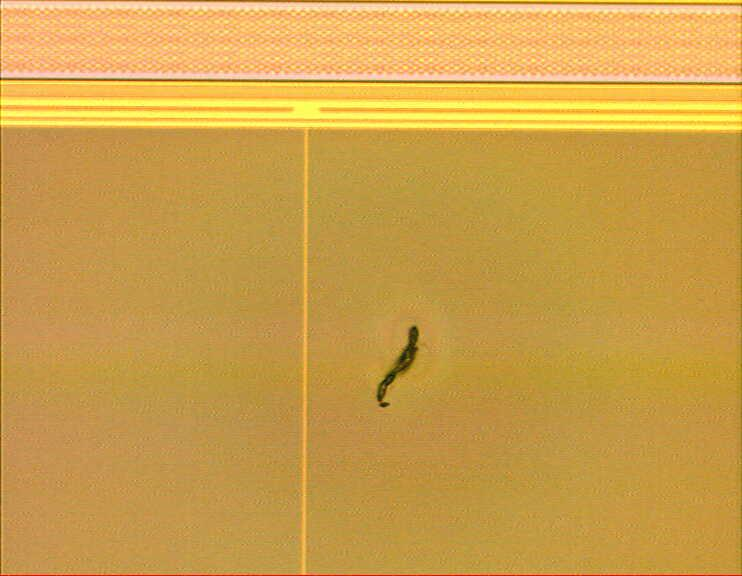PIQ PARTICLE: (370, 318, 427, 416)
